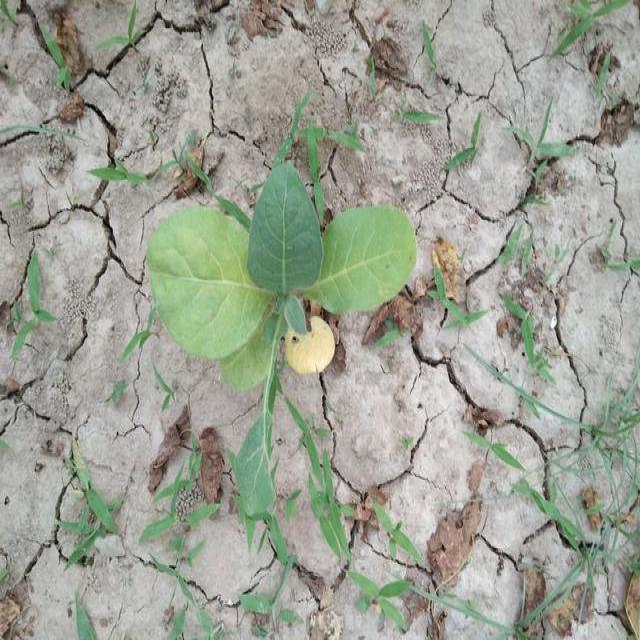crop: (143, 148, 432, 368)
